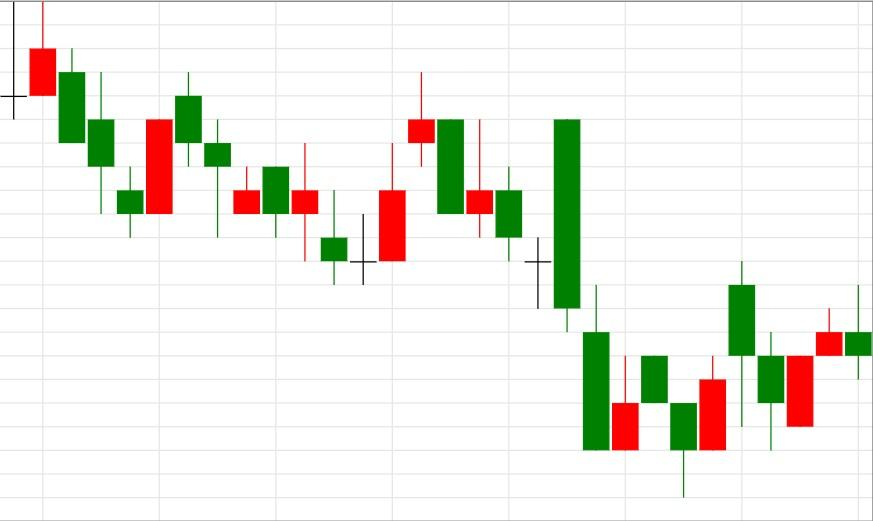morning_star_rise: (175, 70, 407, 285)
